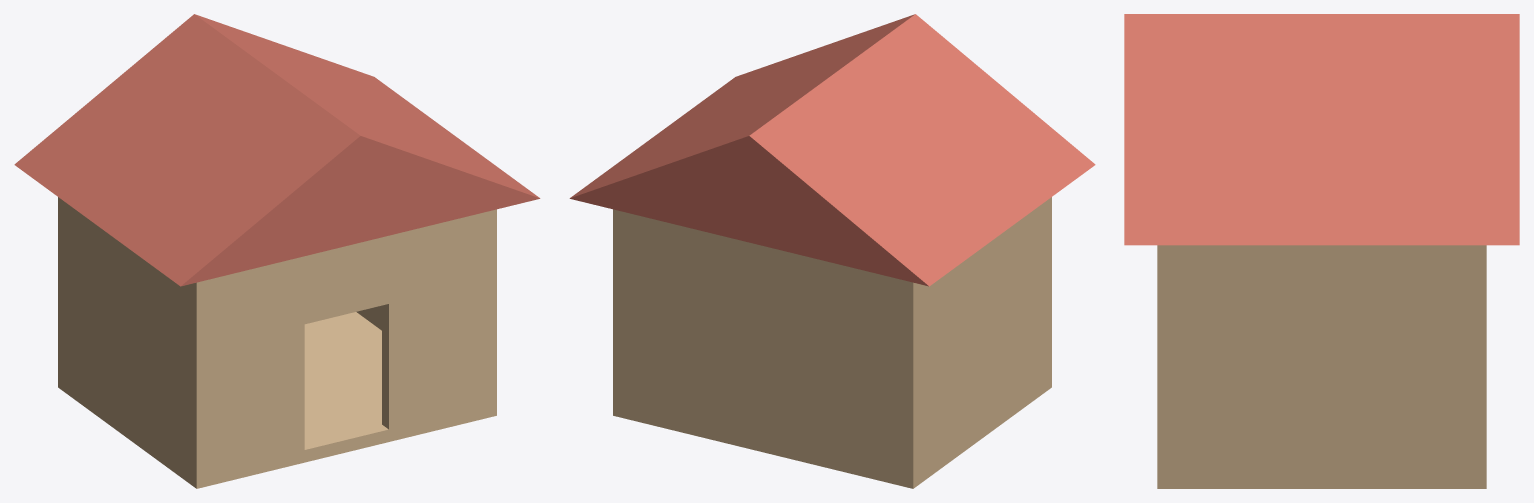
File: kedi_evi.glb
3 renders of one model, left to right at view 1: azimuth 30°, elevation 25°; view 2: azimuth 150°, elevation 25°; view 3: azimuth 270°, elevation 25°, orthographic. The views are drawn at different scales.
Visible parts, largest first — view 1: kedi_evi; view 2: kedi_evi; view 3: kedi_evi.
Part boxes in pixels (bbox=[...]): kedi_evi: bbox=[14, 14, 540, 488]; kedi_evi: bbox=[569, 14, 1095, 488]; kedi_evi: bbox=[1124, 14, 1519, 488].
Bounding box in the file's own units: 0.6 × 0.52 × 0.48.
